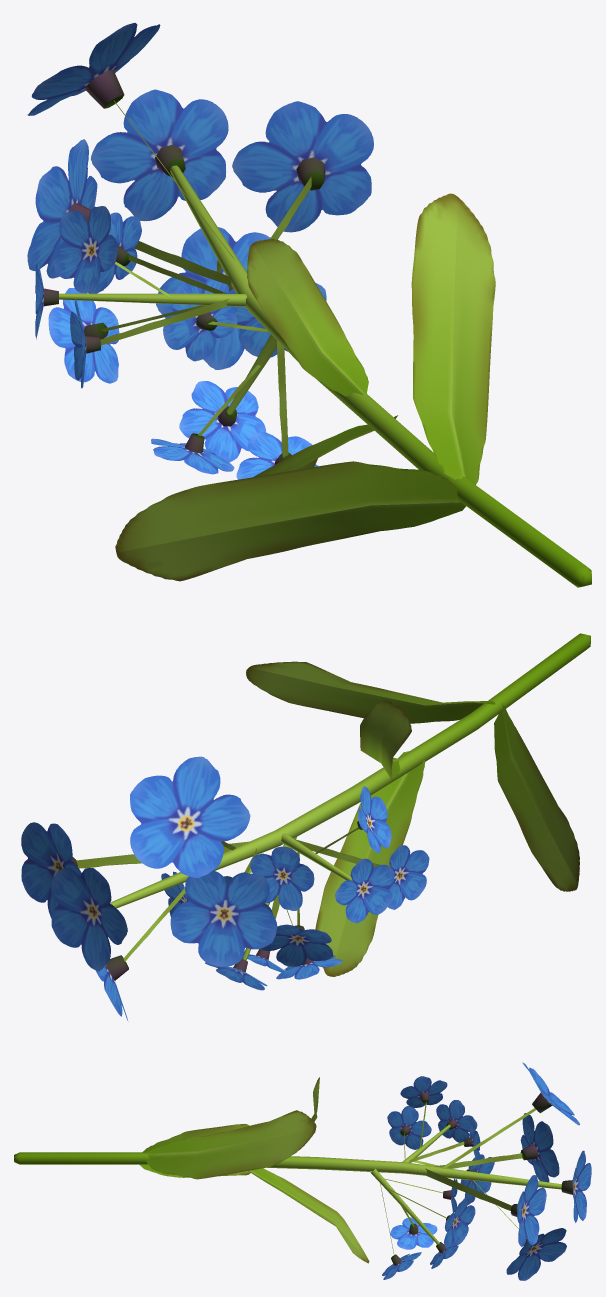
The model's file is SM_Forgetmenot_blue_big.fbx.
3 renders of one model, top to bottom at view 1: azimuth 30°, elevation 25°; view 2: azimuth 150°, elevation 25°; view 3: azimuth 270°, elevation 25°, orthographic. The views are drawn at different scales.
Parts seen in each view (by area): view 1: Forgetmenot_blue_big; view 2: Forgetmenot_blue_big; view 3: Forgetmenot_blue_big.
Part boxes in pixels (box(x1,y1,x2,y2)): Forgetmenot_blue_big: box(27, 23, 591, 587); Forgetmenot_blue_big: box(21, 633, 590, 1021); Forgetmenot_blue_big: box(14, 1062, 591, 1280).
Bounding box in the file's own units: 48.68 × 36.03 × 89.7.
